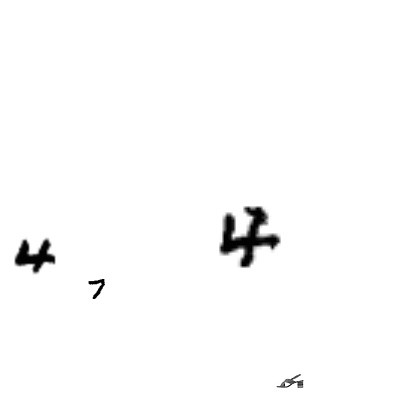4: (205, 192, 289, 276), (5, 228, 61, 284)
7: (83, 272, 111, 300)
Sandal: (276, 366, 304, 394)
